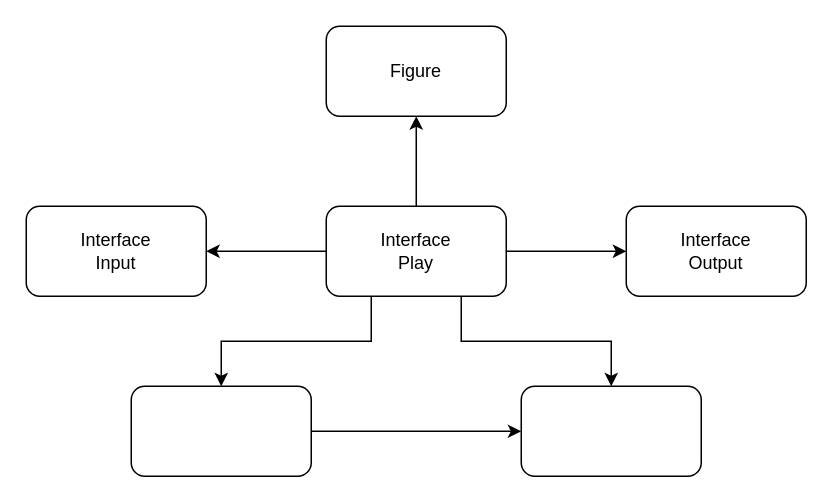
The diagram is 833 pixels wide and 503 high, and some of its shapes have lost their labels. Here are the shapes that lost their labels. From the top down, the centre of each, then its label:
point 220,430: Interface Win
point 610,430: Interface Board
